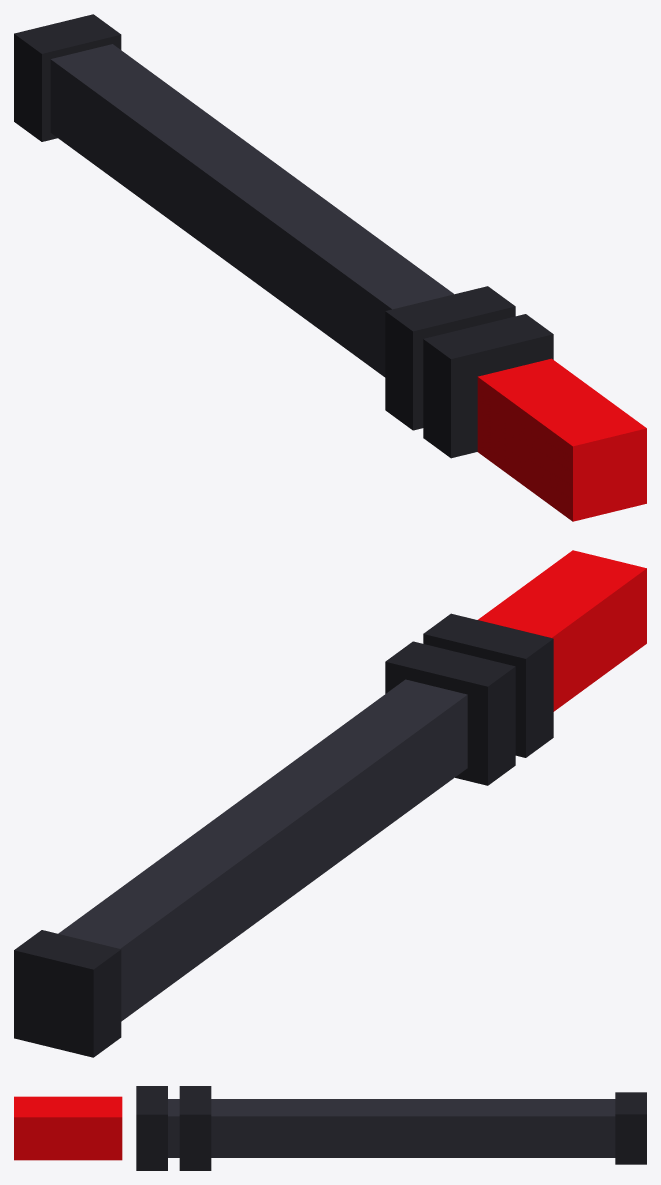
File: Wand 01.FBX
3 views of the same model, one above another, from view 1: azimuth 30°, elevation 25°; view 2: azimuth 150°, elevation 25°; view 3: azimuth 270°, elevation 25° (orthographic). The views are drawn at different scales.
Visible parts, largest first — view 1: Wand 01; view 2: Wand 01; view 3: Wand 01.
Part boxes in pixels (x1,y1,x2,y2): Wand 01: (14,14,646,521); Wand 01: (14,550,646,1057); Wand 01: (14,1086,646,1170).
Bounding box in the file's own units: 7.61 × 7.02 × 71.41.
